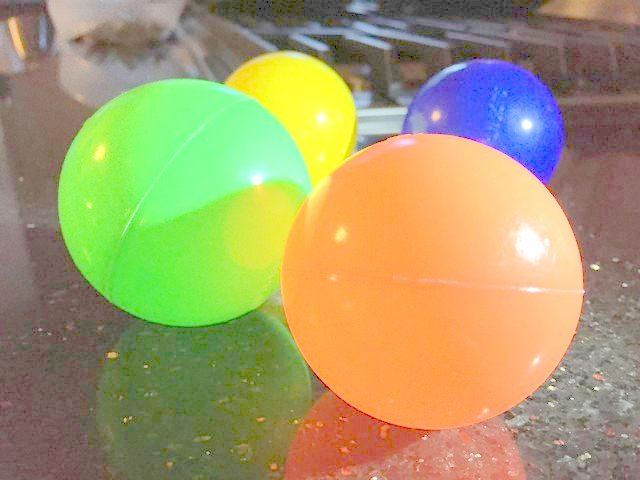ball: (56, 80, 313, 328)
